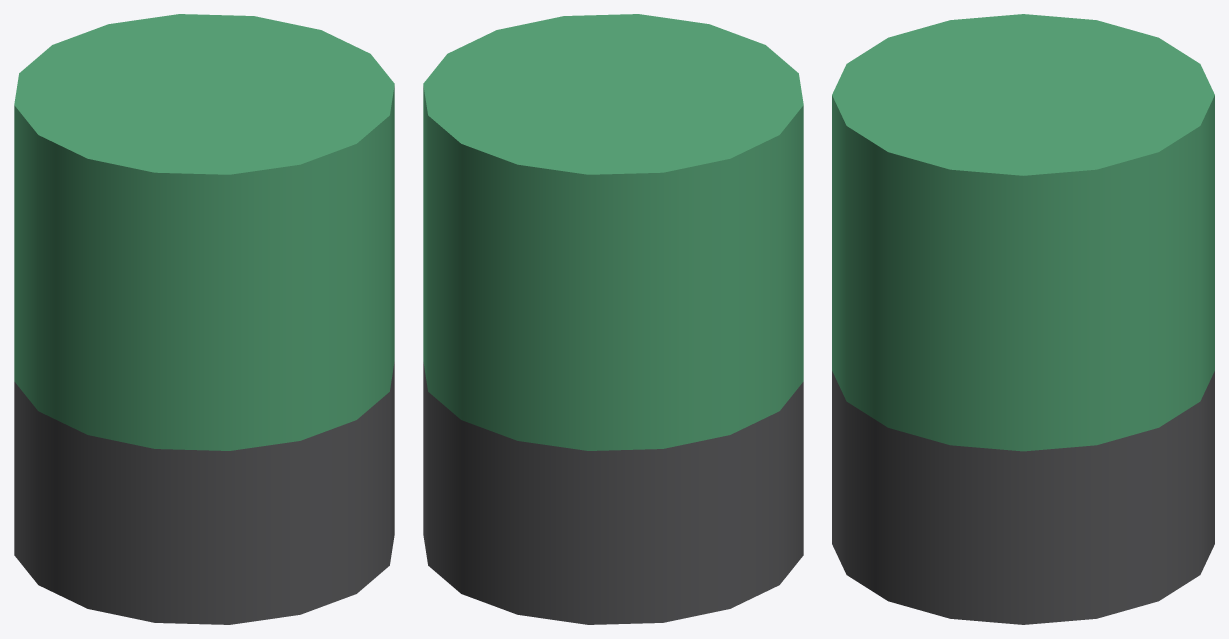
Rendered from buoy-can-green.glb.
The picture shows the model from 3 angles, left to right: view 1: azimuth 30°, elevation 25°; view 2: azimuth 150°, elevation 25°; view 3: azimuth 270°, elevation 25°; orthographic projection.
Parts seen in each view (by area): view 1: buoy-can-green; view 2: buoy-can-green; view 3: buoy-can-green.
Part boxes in pixels (<box>): buoy-can-green: <box>14,14,394,624</box>; buoy-can-green: <box>423,14,803,624</box>; buoy-can-green: <box>832,14,1214,624</box>.
Bounding box in the file's own units: 1.7 × 2.2 × 1.7.
